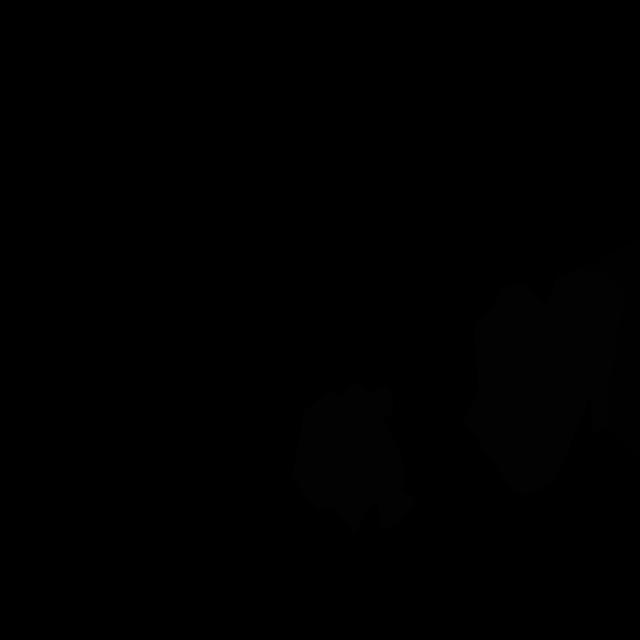cardboard: (462, 268, 624, 496), (292, 381, 417, 534)
rigid_plastic: (582, 238, 640, 459)
